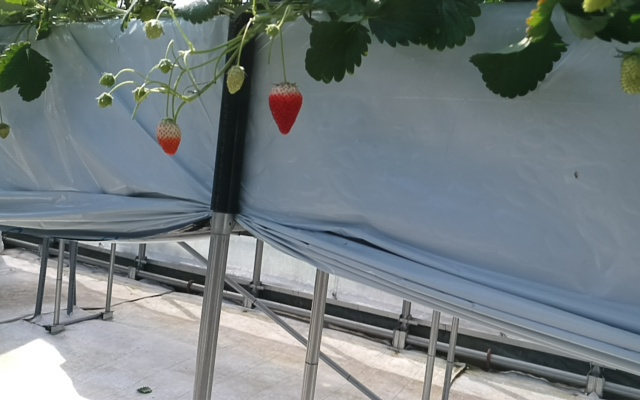GreenStrawberry: (613, 46, 640, 96), (157, 116, 182, 159), (225, 65, 244, 94), (143, 17, 163, 40), (1, 123, 12, 140)
MatureStrawberry: (268, 79, 304, 138)
